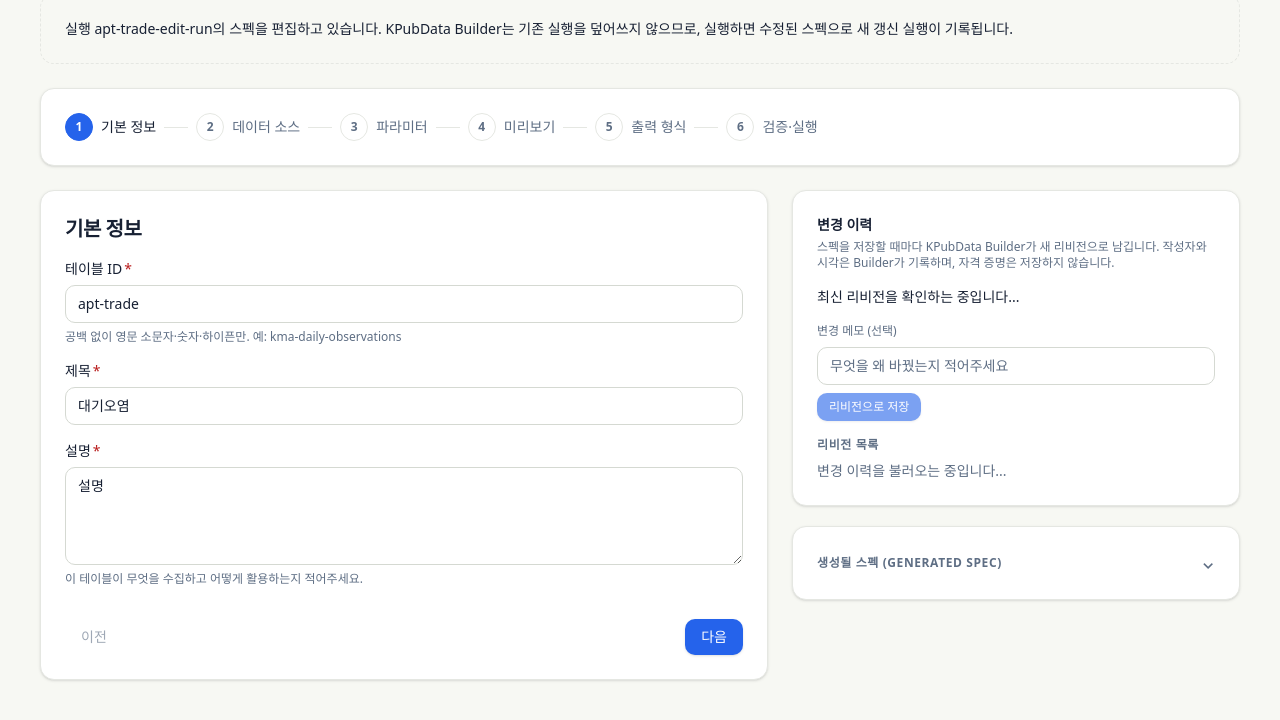
Test: 이 스펙 저장 (Review 단계) › records not_validated when the user saves before running validation
(page scrolled)
Check: the heading "기본 정보" is shown, box [65,215,141,242]
Step 1. Click the button "다음" → (714, 637), box [685,619,743,655]
(page scrolled)
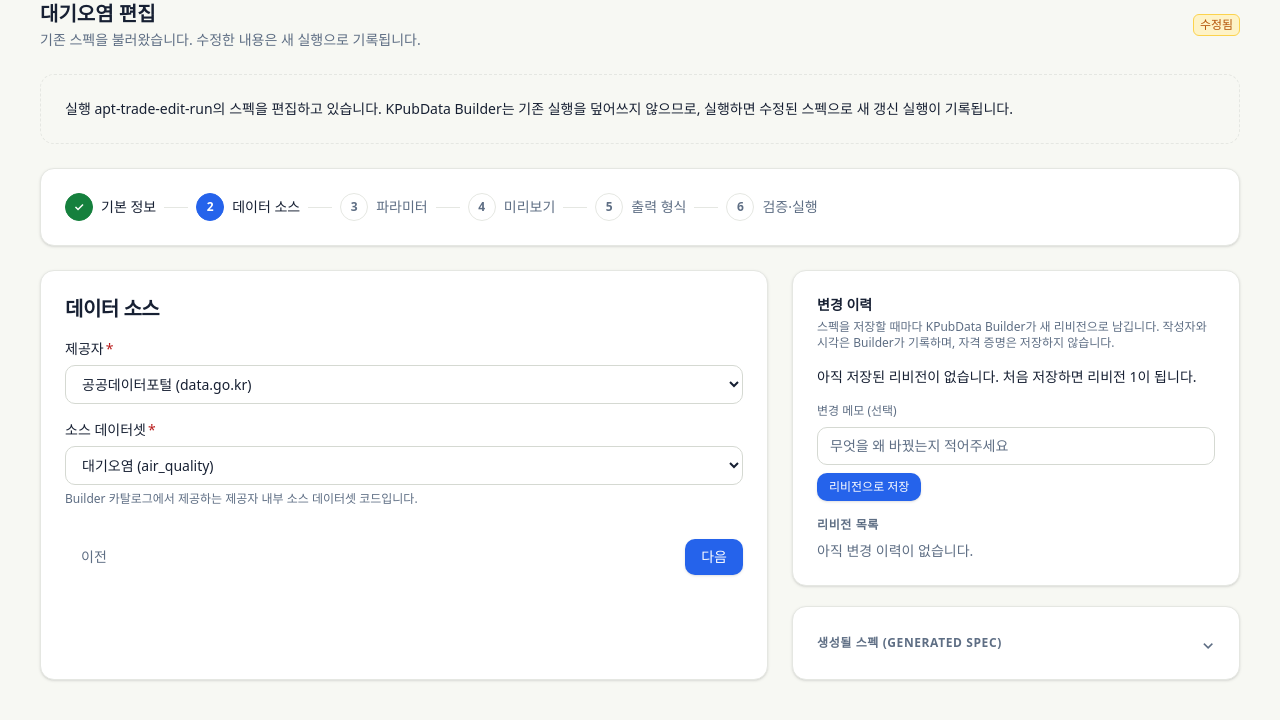
Check: the heading "데이터 소스" is shown, box [65,295,159,322]
Step 2. Click the button "다음" → (714, 557), box [685,539,743,575]
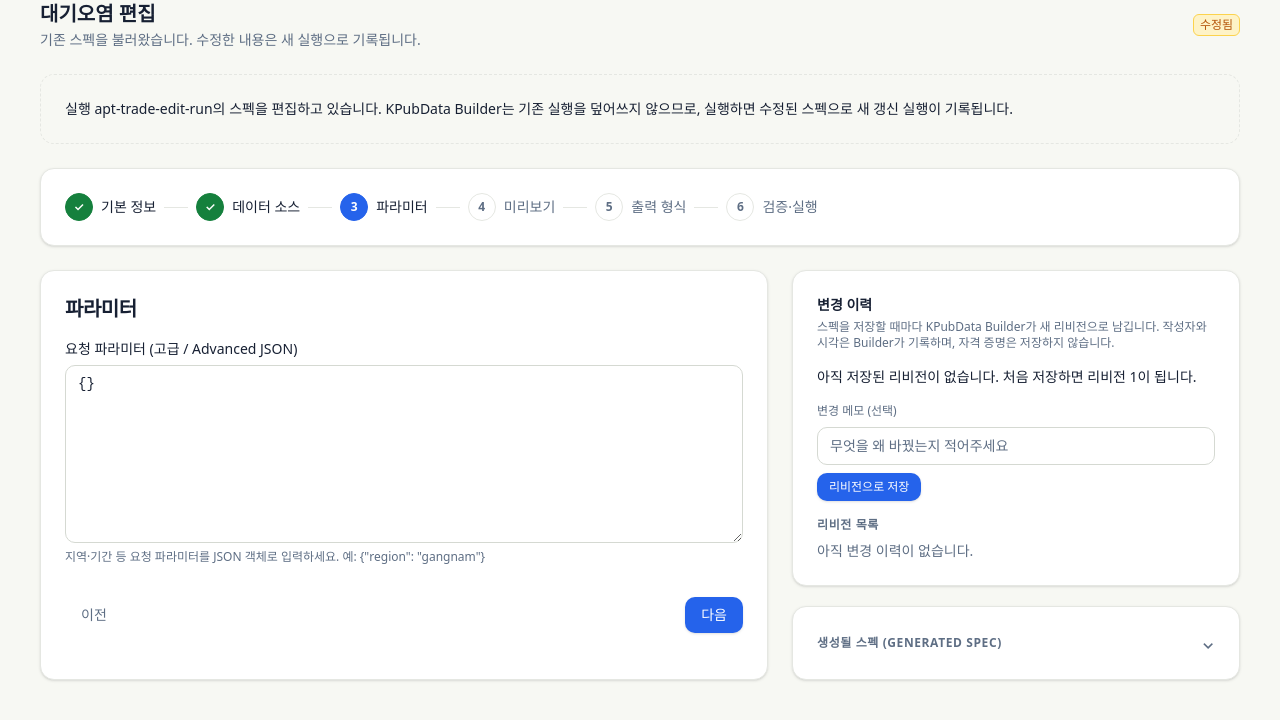
Check: the heading "파라미터" is shown, box [65,295,137,322]
Step 3. Click the button "다음" → (714, 615), box [685,597,743,633]
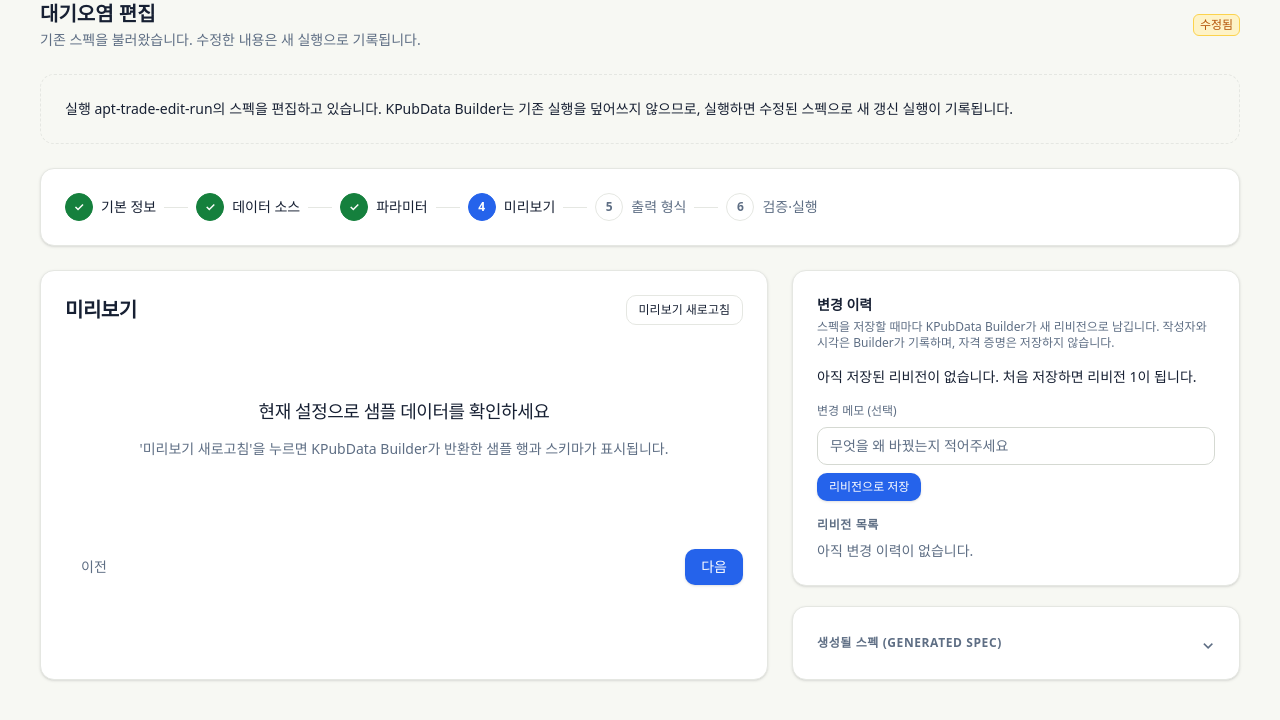
Check: the heading "미리보기" is shown, box [65,296,137,324]
Step 4. Click the button "다음" → (714, 567), box [685,549,743,585]
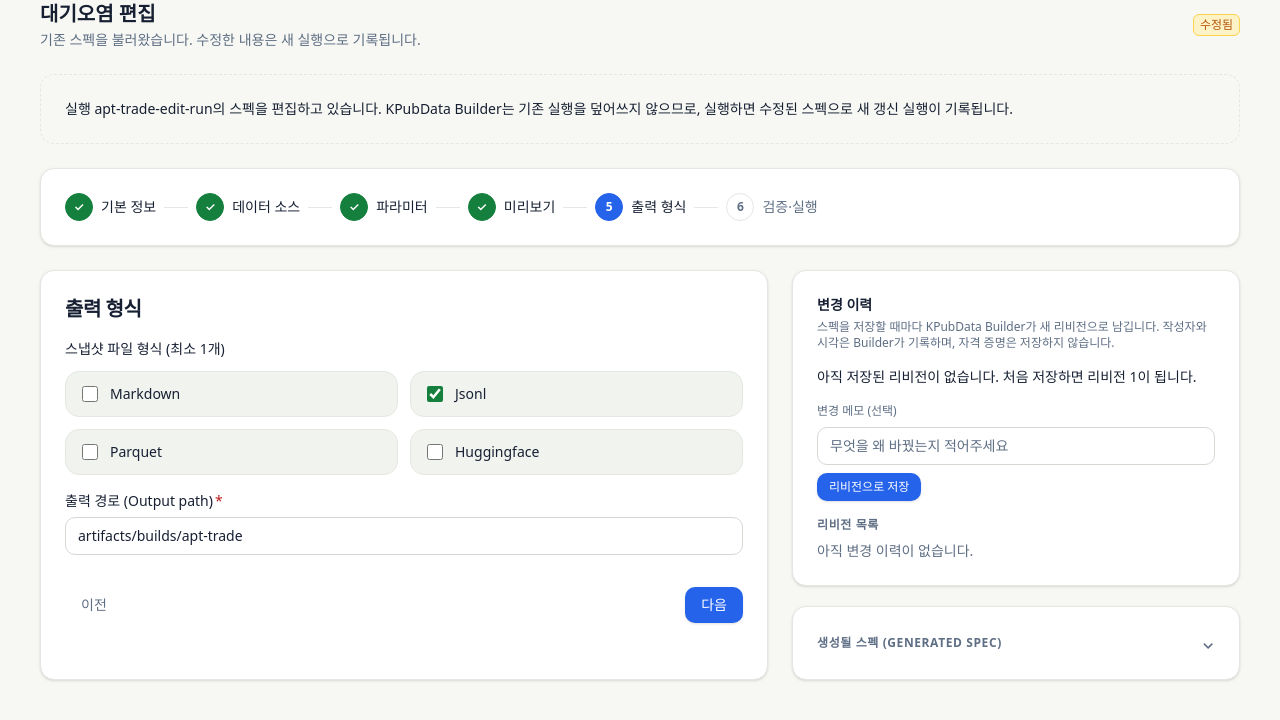
Check: the heading "출력 형식" is shown, box [65,295,141,322]
Step 5. Click the button "다음" → (714, 605), box [685,587,743,623]
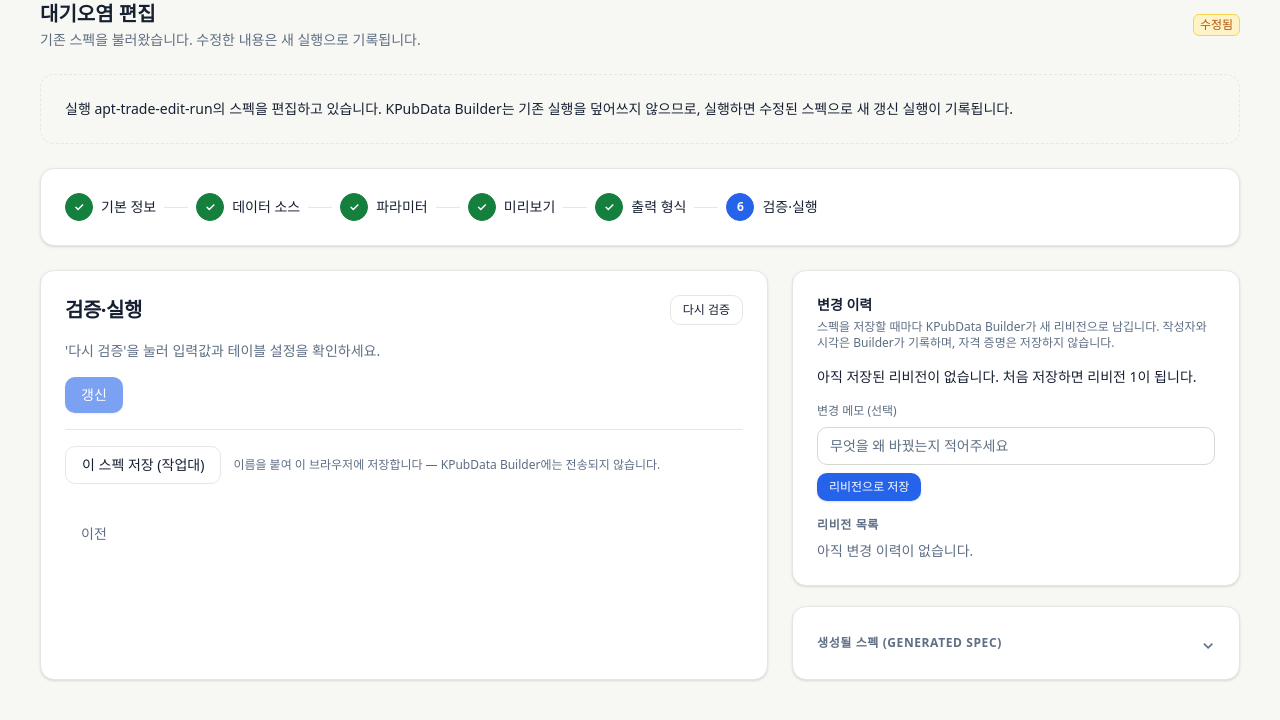
Check: the heading "검증·실행" is shown, box [65,296,142,324]
Step 6. Click the button "이 스펙 저장 (작업대)" → (143, 465), box [65,446,221,484]
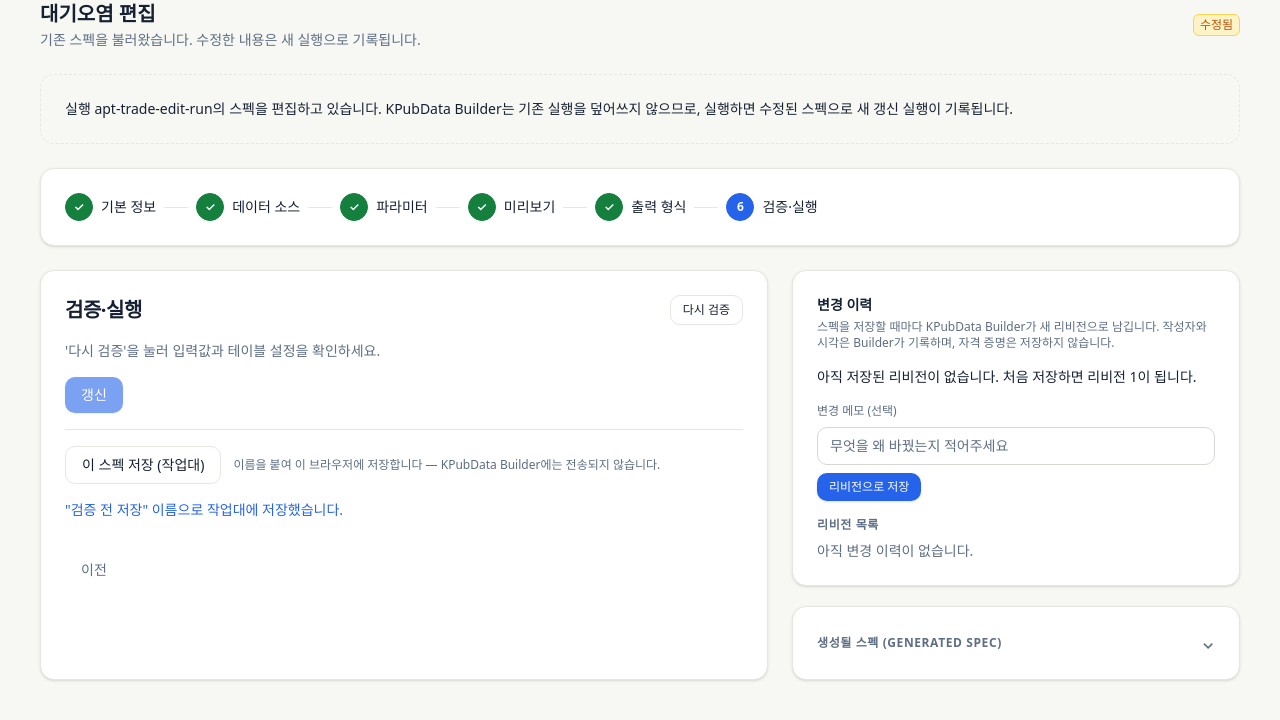
Check: the text "\"검증 전 저장\" 이름으로 작업대에 저장했습니다." is shown, box [65,500,343,519]
